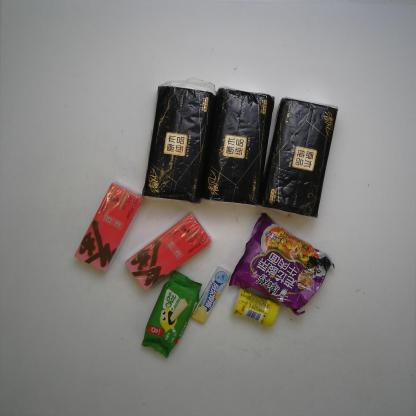Candy: (190, 265, 233, 326)
Dessert: (140, 270, 204, 360)
Gum: (228, 286, 281, 329)
Instant Drink: (124, 210, 212, 292), (74, 180, 146, 274)
Instant Noodles: (228, 212, 336, 317)
Tissue: (256, 96, 340, 219), (140, 76, 216, 206), (200, 84, 276, 210)
